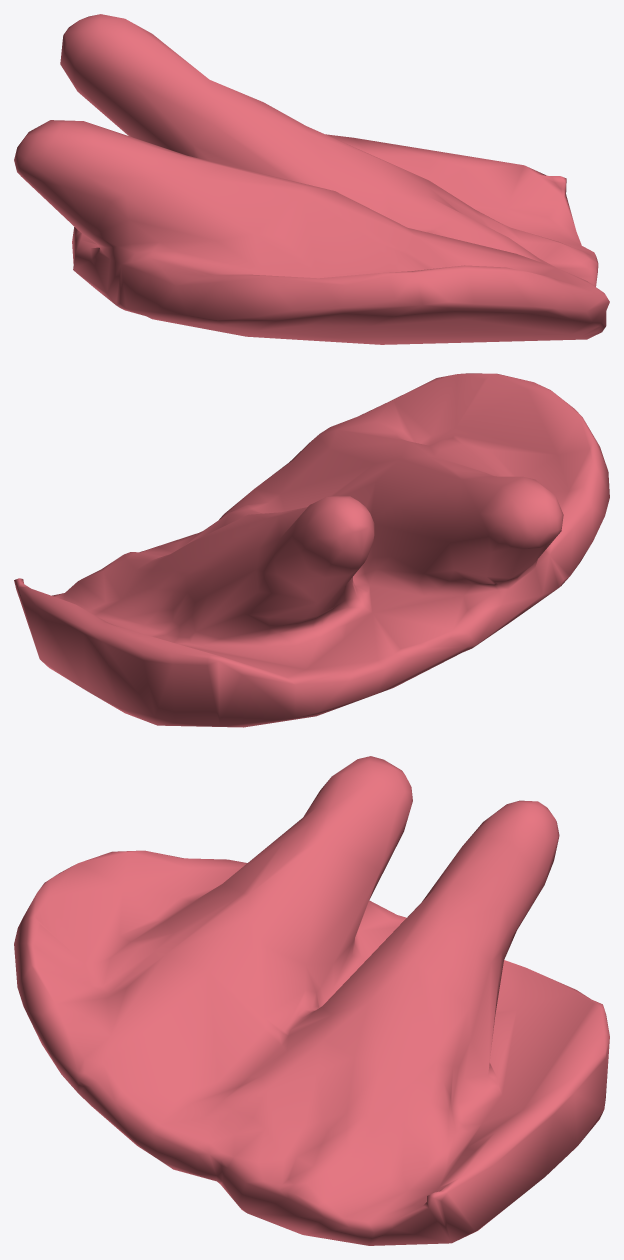
3 renders of one model, top to bottom at view 1: azimuth 30°, elevation 25°; view 2: azimuth 150°, elevation 25°; view 3: azimuth 270°, elevation 25°, orthographic. The views are drawn at different scales.
Visible parts, largest first — view 1: ZA_e2bf488a2dc5267e; view 2: ZA_e2bf488a2dc5267e; view 3: ZA_e2bf488a2dc5267e.
Boxes of the visible parts, left/top/right/bottom form: ZA_e2bf488a2dc5267e: left=14, top=14, right=609, bottom=344; ZA_e2bf488a2dc5267e: left=14, top=373, right=609, bottom=727; ZA_e2bf488a2dc5267e: left=14, top=756, right=609, bottom=1245.
Size of the model in its own units: 0.0306 by 0.0149 by 0.0296.
